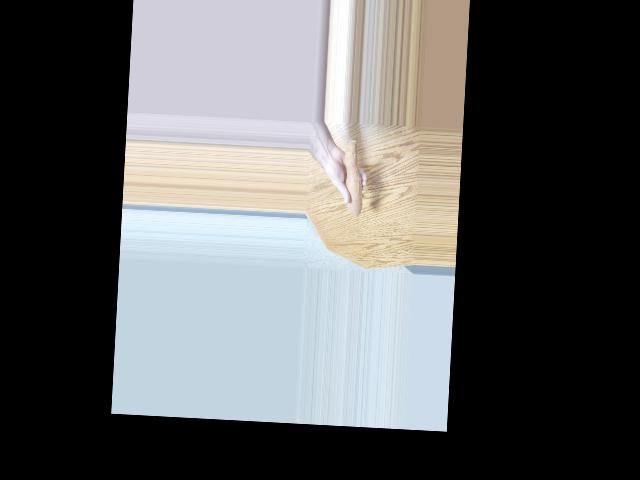sweet_potato: (340, 135, 368, 218)
